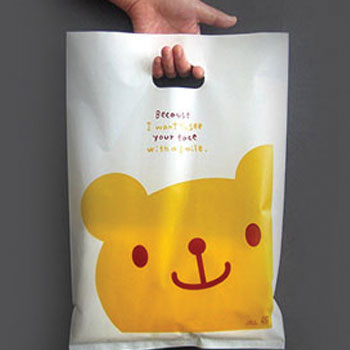Nonrec_Plastic: (53, 20, 298, 349)
